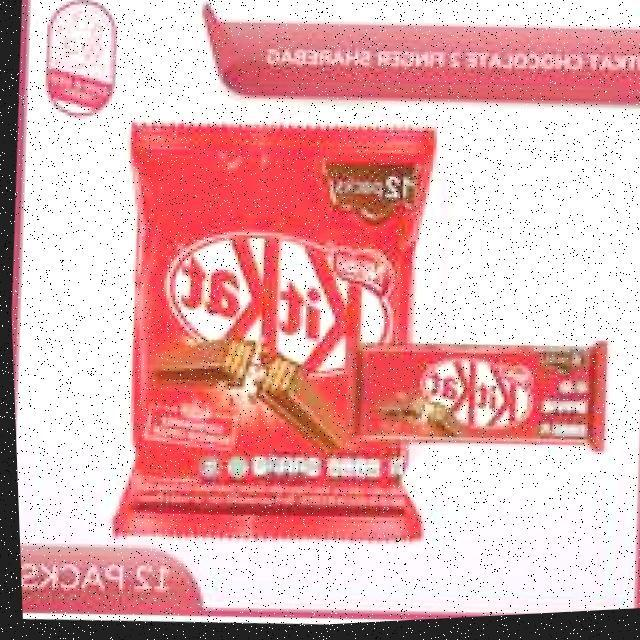kitkat_chocolate: (130, 118, 415, 535), (368, 345, 608, 448)
